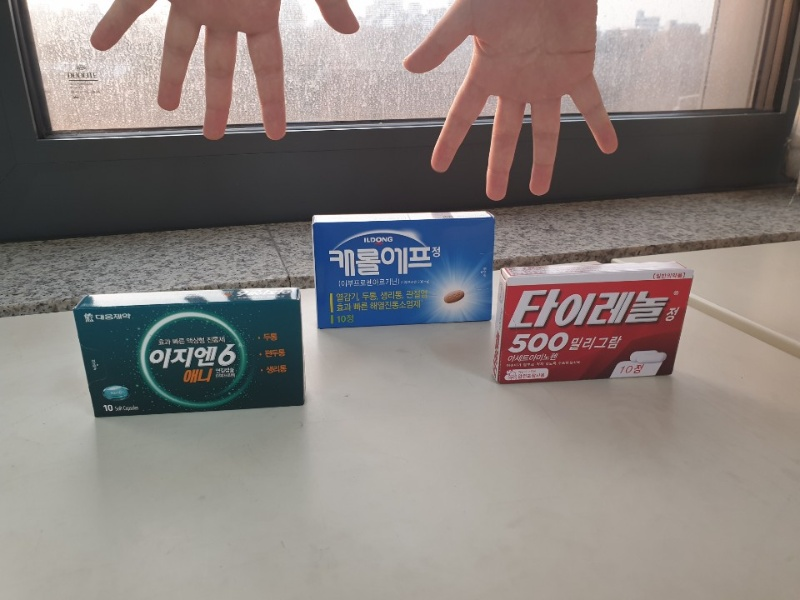carolF: (311, 214, 493, 328)
ezn: (71, 285, 307, 419)
tylenol: (494, 262, 692, 382)
